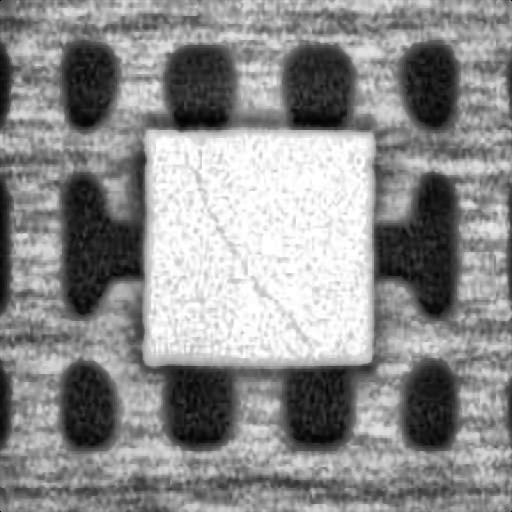DIE_CRACK: (192, 170, 314, 345)
